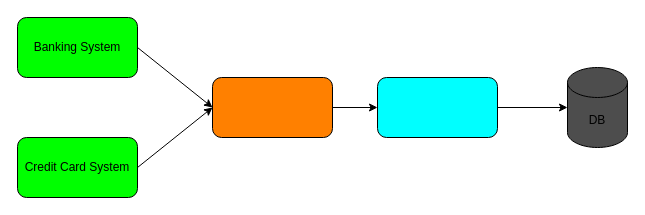
The diagram is 645 pixels wide and 215 high, and some of its shapes have lost their labels. Each missing label, with the centre of its shape:
"Core Framework" goes at pixel 272 107.
"Data Persistent Layer" goes at pixel 437 107.
